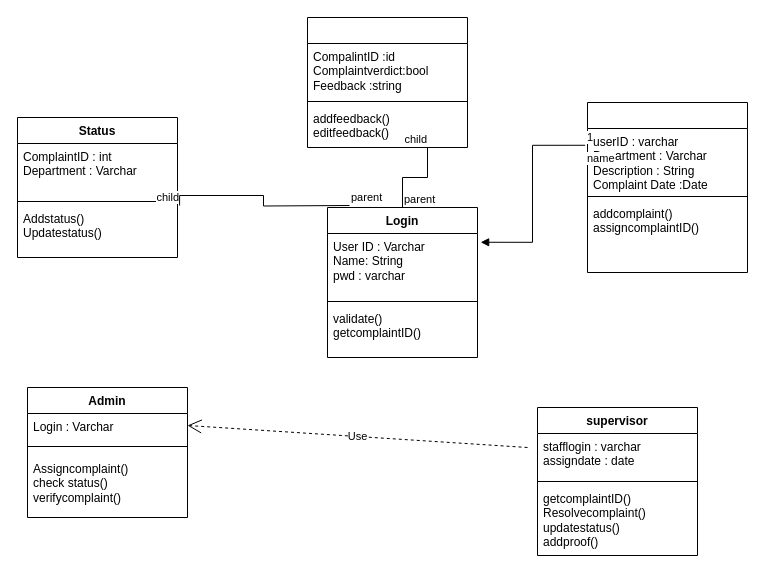
Some shapes in this 765 by 576 pixel diagram are drawn without their labels. The shapes that lost their labels are listed below. From the top down, each one's box as (x1, y1, x2, y2) in pixels, then its label:
(306, 16, 468, 148): User feedback
(586, 102, 748, 272): Complaint registration
